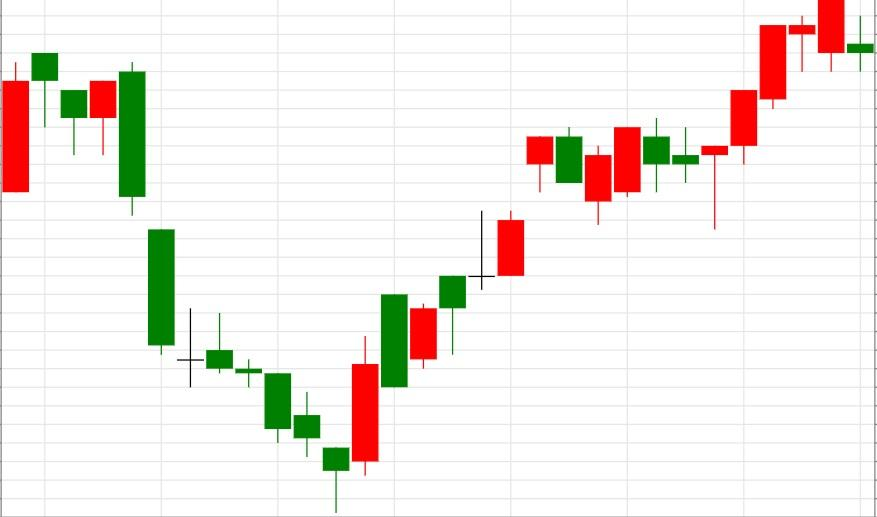hammer_rise: (118, 63, 351, 514)
